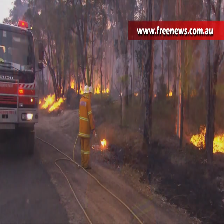fire_h: (38, 94, 63, 111), (190, 126, 206, 150)
fire_l: (213, 133, 224, 152), (94, 81, 101, 94), (77, 82, 84, 95), (102, 83, 110, 94), (70, 76, 75, 89), (100, 138, 106, 148), (167, 90, 173, 97), (134, 91, 139, 97)
